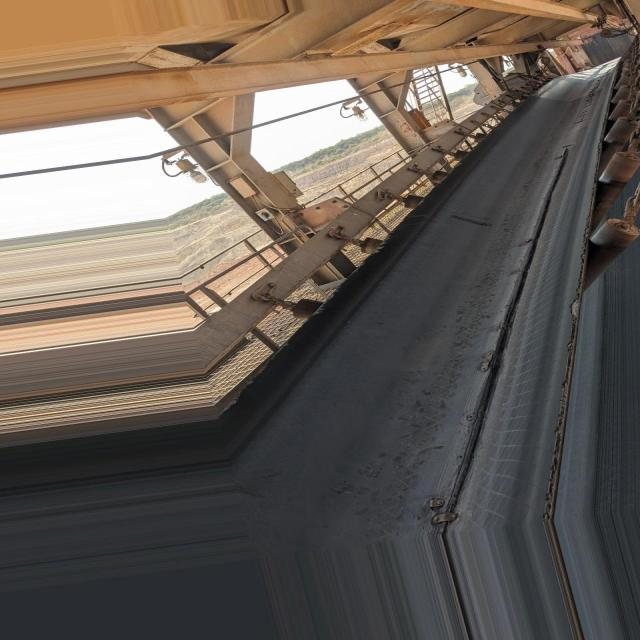Roller: (578, 223, 640, 295), (596, 150, 640, 200)
Tear: (442, 147, 560, 512)
